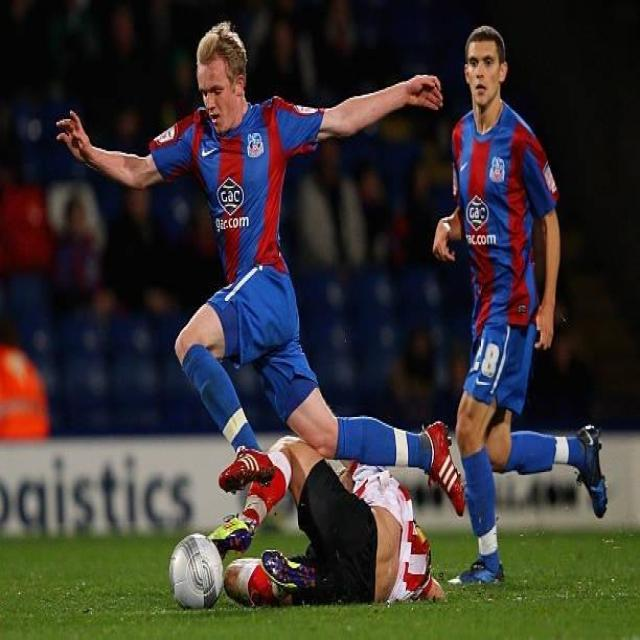ball: (161, 529, 224, 620)
player: (54, 24, 448, 493), (442, 23, 610, 597), (224, 431, 445, 611)
